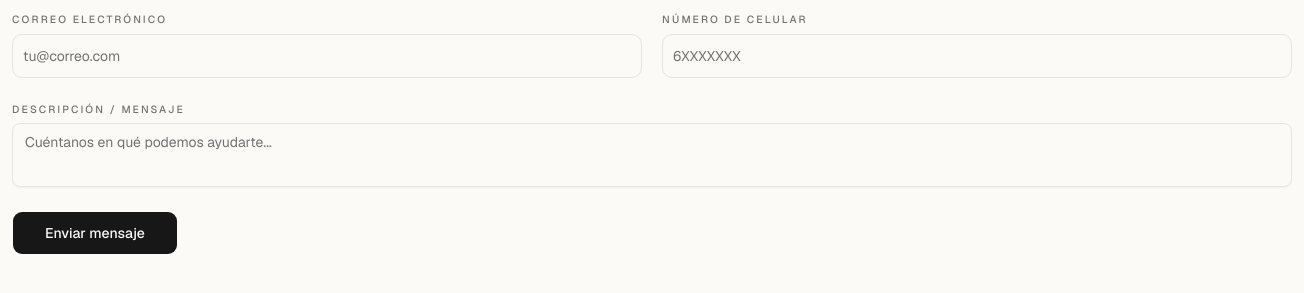
Test: ContactForm — validaciones › muestra error con correo inválido
In the field labelled "Correo electrónico": (327,56) x1=12 y1=34 x2=642 y2=78, type "no-es-correo"
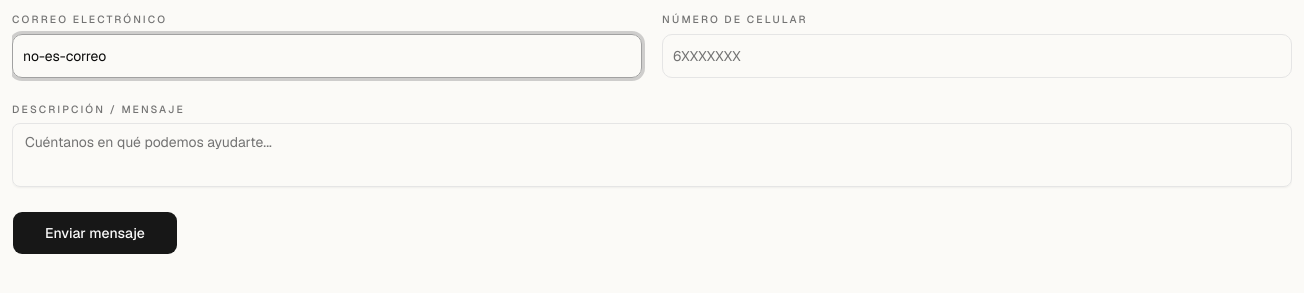
In the field labelled "Número de celular": (977,56) x1=662 y1=34 x2=1292 y2=78, type "61234567"
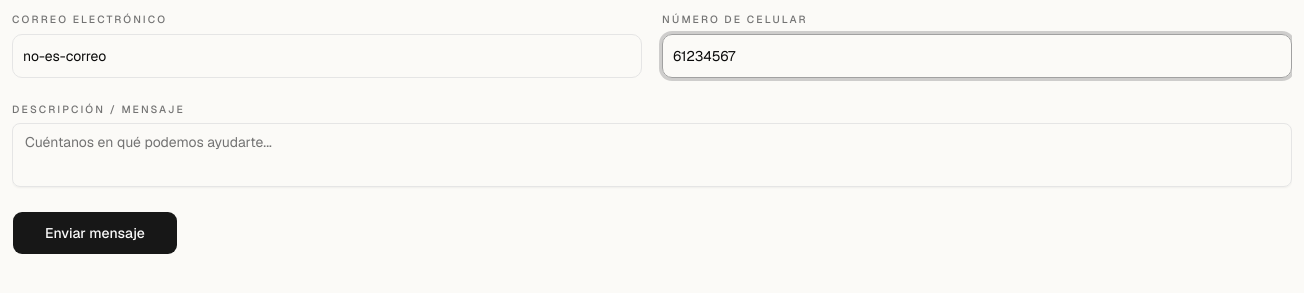
In the text box labelled "Descripción / Mensaje": (652,155) x1=12 y1=123 x2=1292 y2=187, type "Mensaje de prueba con suficientes caracteres"
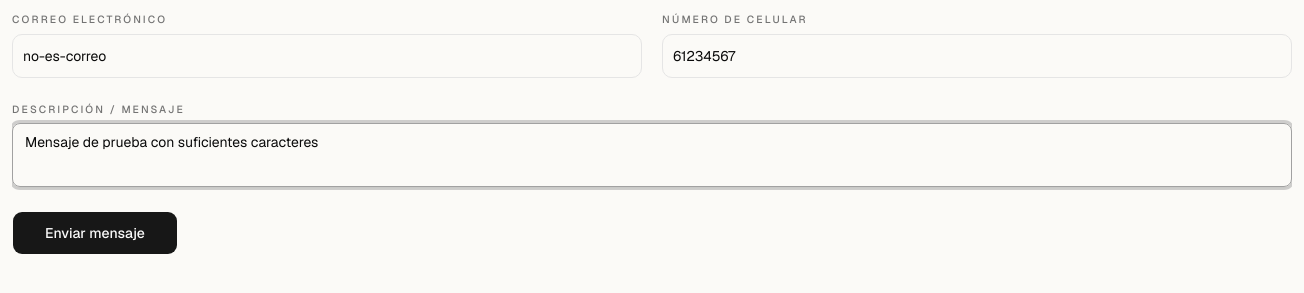
Click the button "Enviar mensaje": (95,233) x1=12 y1=211 x2=178 y2=255
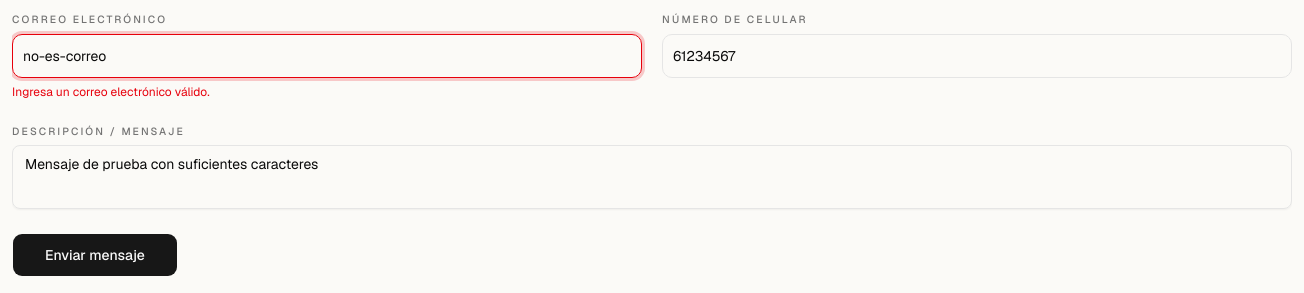
Result: the text "Ingresa un correo electrónico válido." is shown at x1=12 y1=84 x2=210 y2=100
